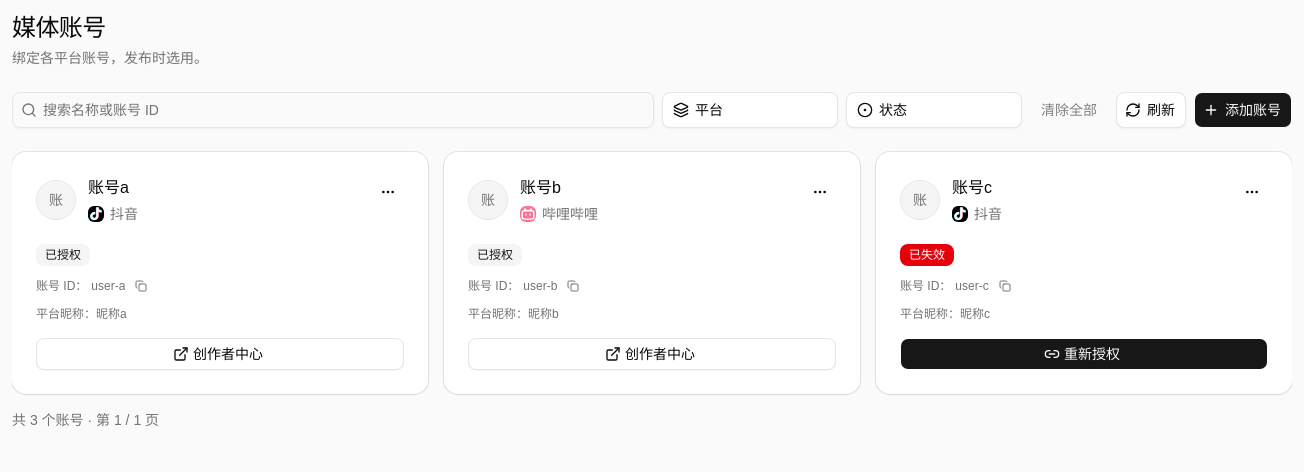
Scenario: shows an identity mismatch on the original card and allows retry
Expected: the text "共 3 个账号 · 第 1 / 1 页" is shown, [12,410,159,430]
Click the button "重新授权" at x=1084, y=354, box [900,338,1268,370]
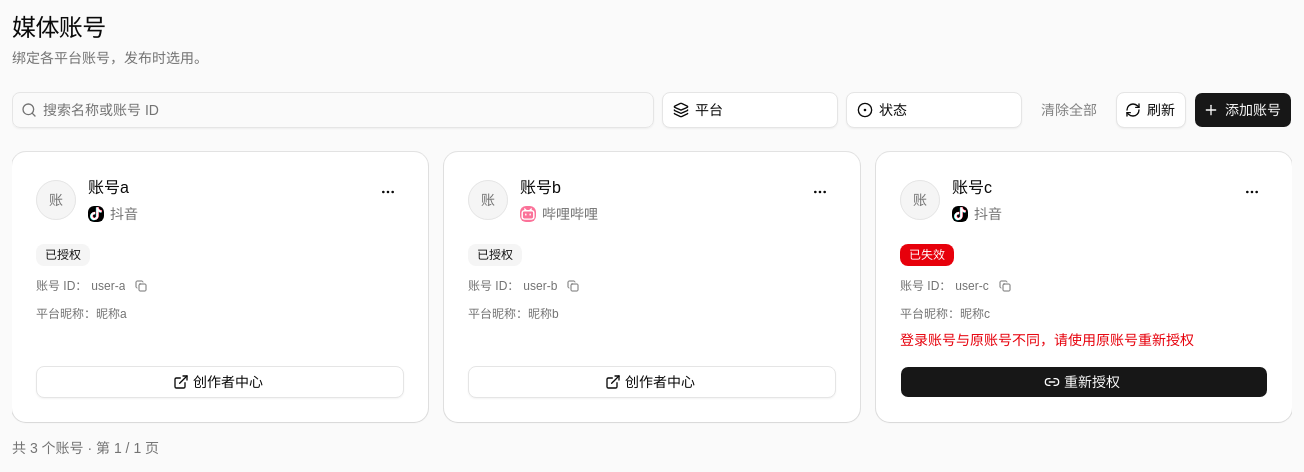
Expected: the text "已失效" is shown, [900,244,954,266]
Expected: the text "登录账号与原账号不同，请使用原账号重新授权" is shown, [900,332,1194,348]
